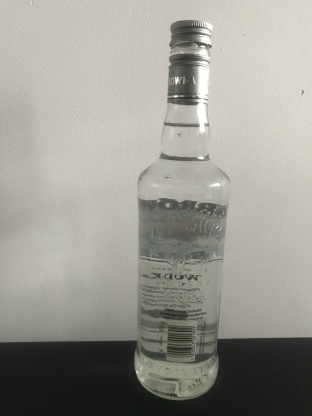nakretka: (166, 18, 213, 104)
